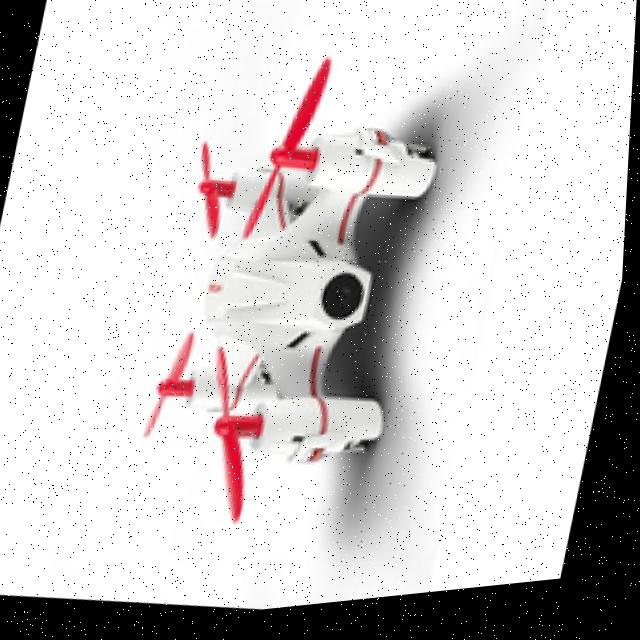drones: (92, 36, 474, 573)
